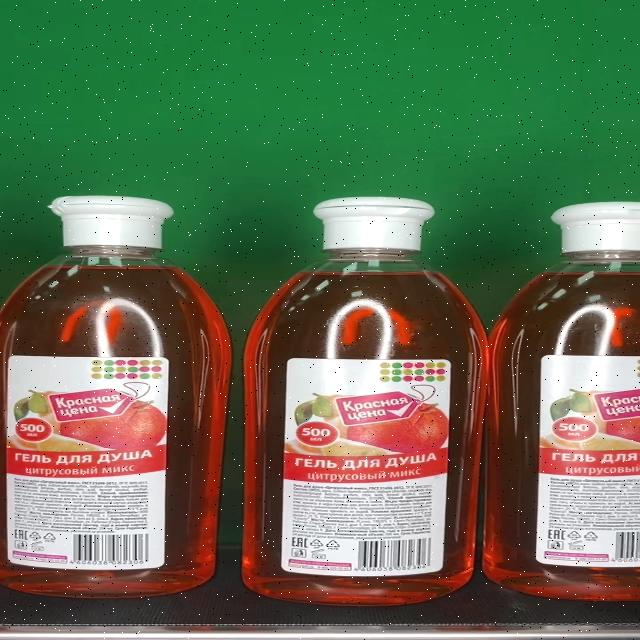Bottle: (241, 197, 489, 606), (0, 196, 232, 600)
Cap: (312, 198, 436, 250), (50, 197, 175, 248)
